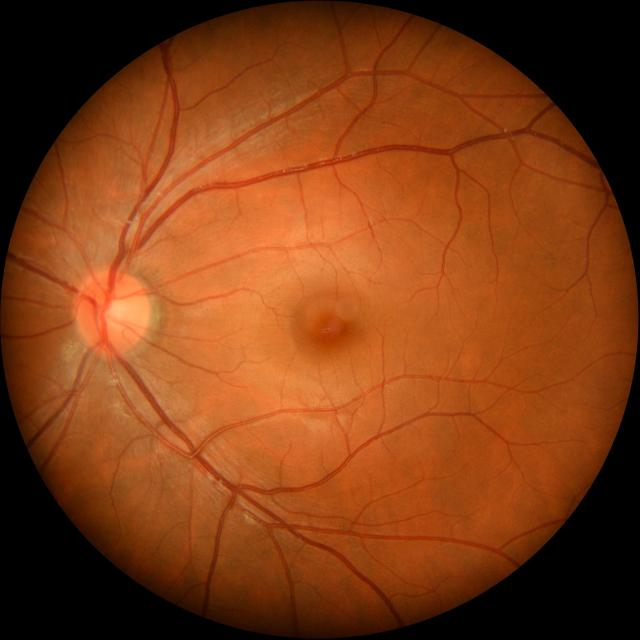OC: (99, 299, 129, 331)
OD: (74, 269, 149, 354)
